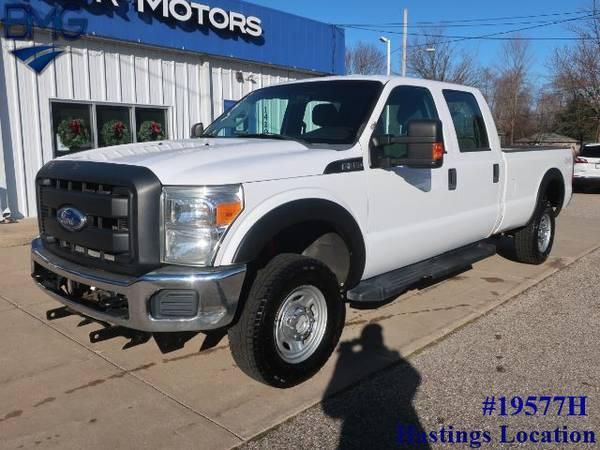Front_Fender: (212, 171, 367, 283)
Front_Left_Door: (366, 156, 460, 275)
Front_Left_Window: (365, 83, 450, 166)
Front_Windshield: (201, 80, 384, 152)
Grille: (36, 163, 161, 275)
Hood: (55, 138, 361, 185)
Left_Headlight: (157, 184, 242, 268)
Rear_Bumper: (31, 238, 247, 337)
Rear_Fender: (495, 147, 571, 235)
Rear_Left_Door: (454, 152, 504, 249)
Rear_Left_Window: (436, 87, 491, 154)
Roof: (351, 73, 498, 148)
Wheel: (235, 245, 355, 387), (513, 205, 557, 265)
